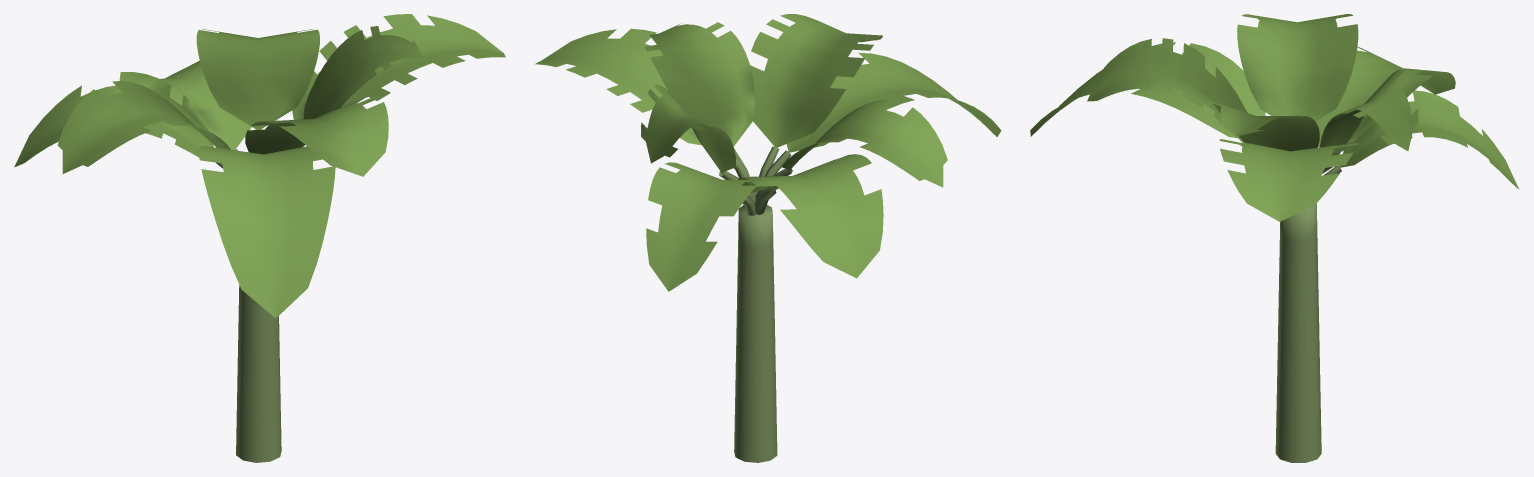
Rendered from banana.glb.
3 renders of one model, left to right at view 1: azimuth 30°, elevation 25°; view 2: azimuth 150°, elevation 25°; view 3: azimuth 270°, elevation 25°, orthographic. The views are drawn at different scales.
Visible parts, largest first — view 1: banana; view 2: banana; view 3: banana.
Boxes of the visible parts, bbox=[...] form: banana: bbox=[14, 14, 505, 462]; banana: bbox=[535, 14, 1001, 462]; banana: bbox=[1030, 14, 1518, 462].
Size of the model in its own units: 3 by 2.65 by 2.98.
